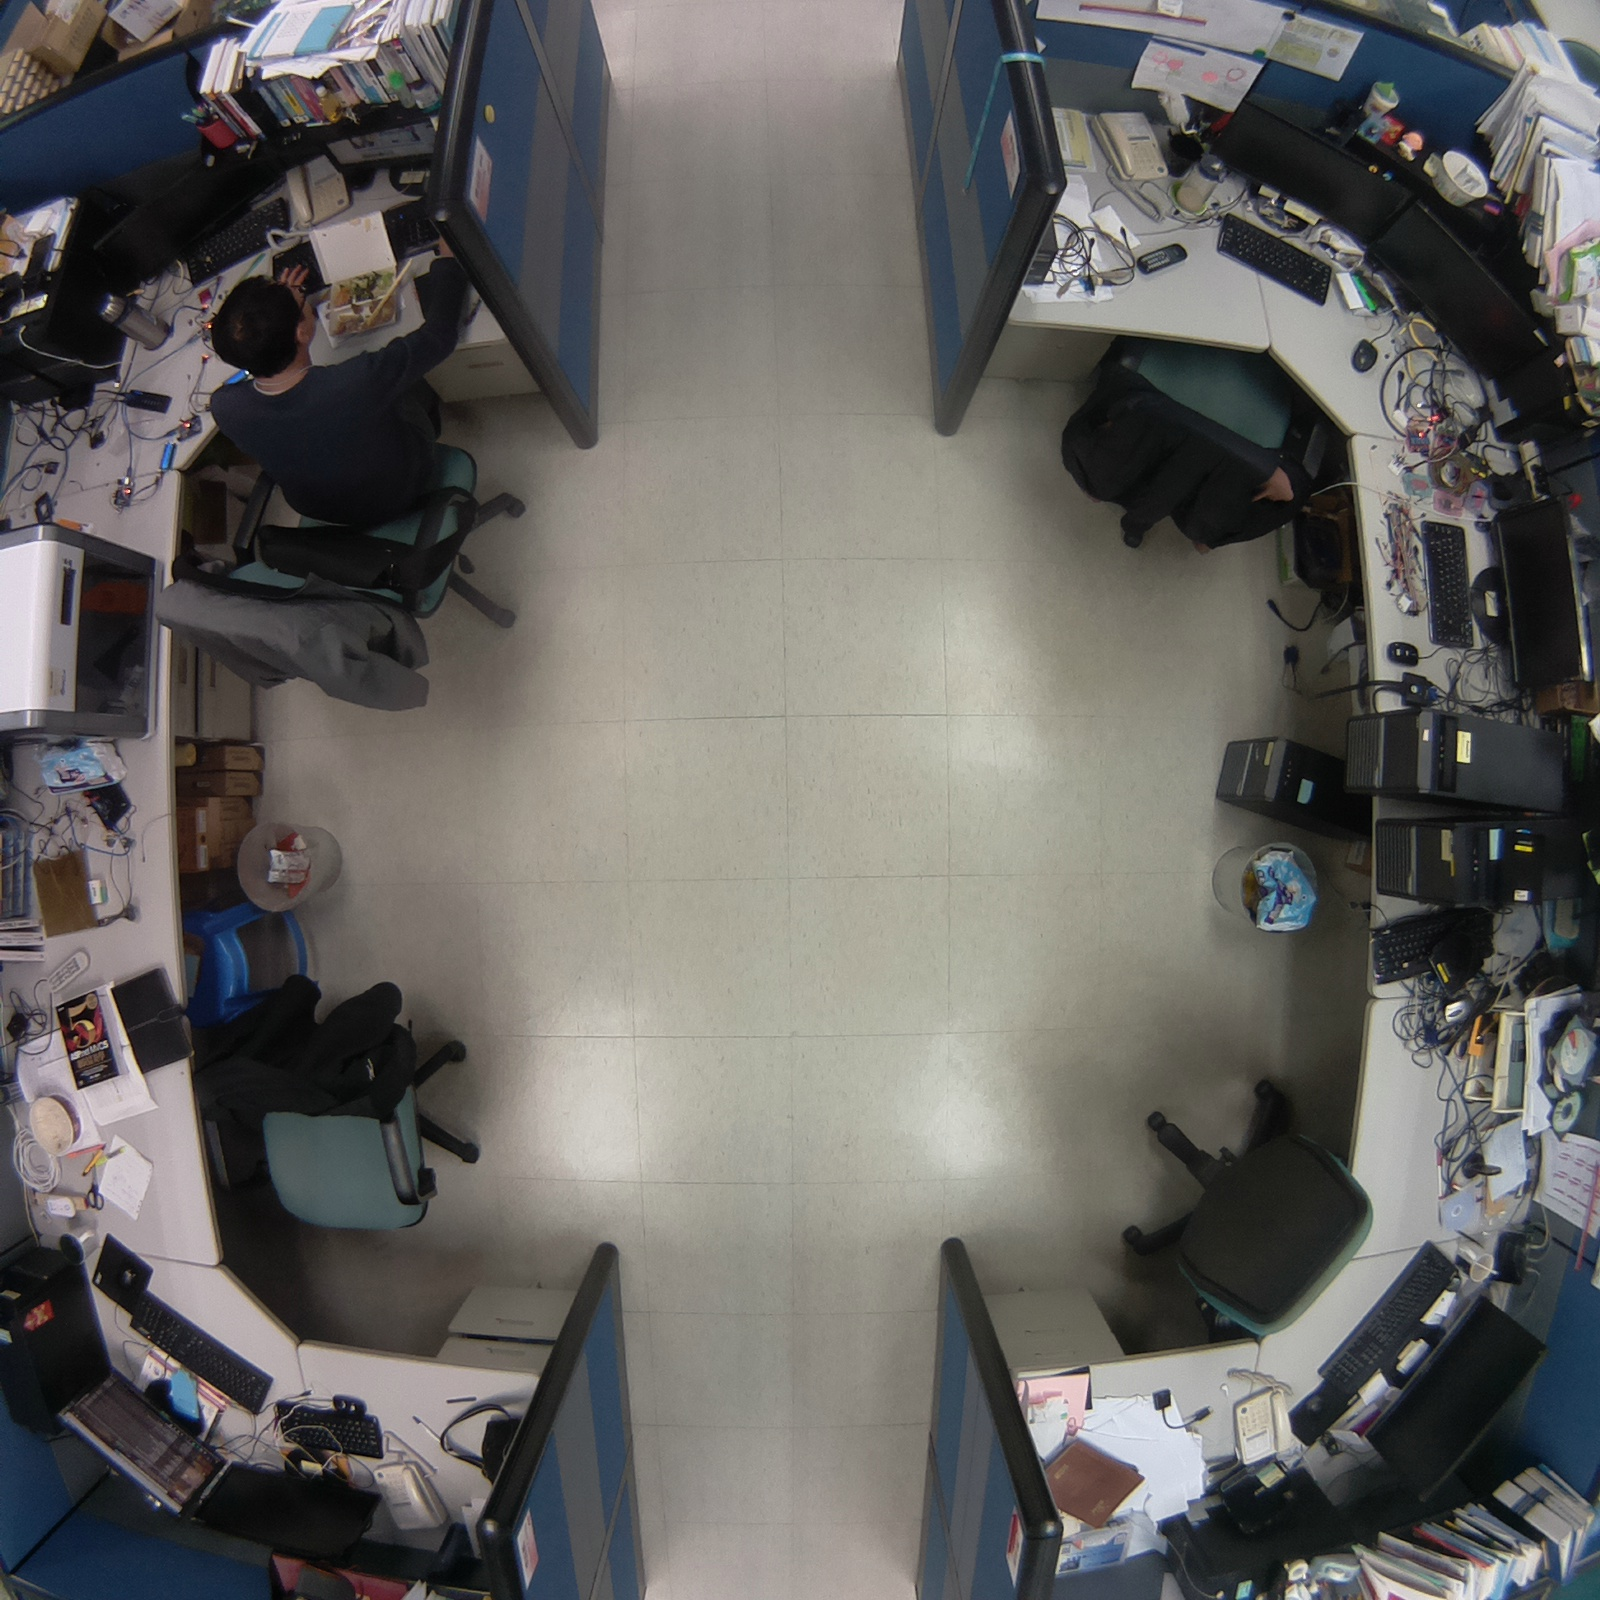chair: (181, 952, 499, 1250), (1104, 1060, 1386, 1370), (1035, 322, 1347, 583)
head: (200, 265, 325, 372)
sitting: (132, 275, 545, 737)
